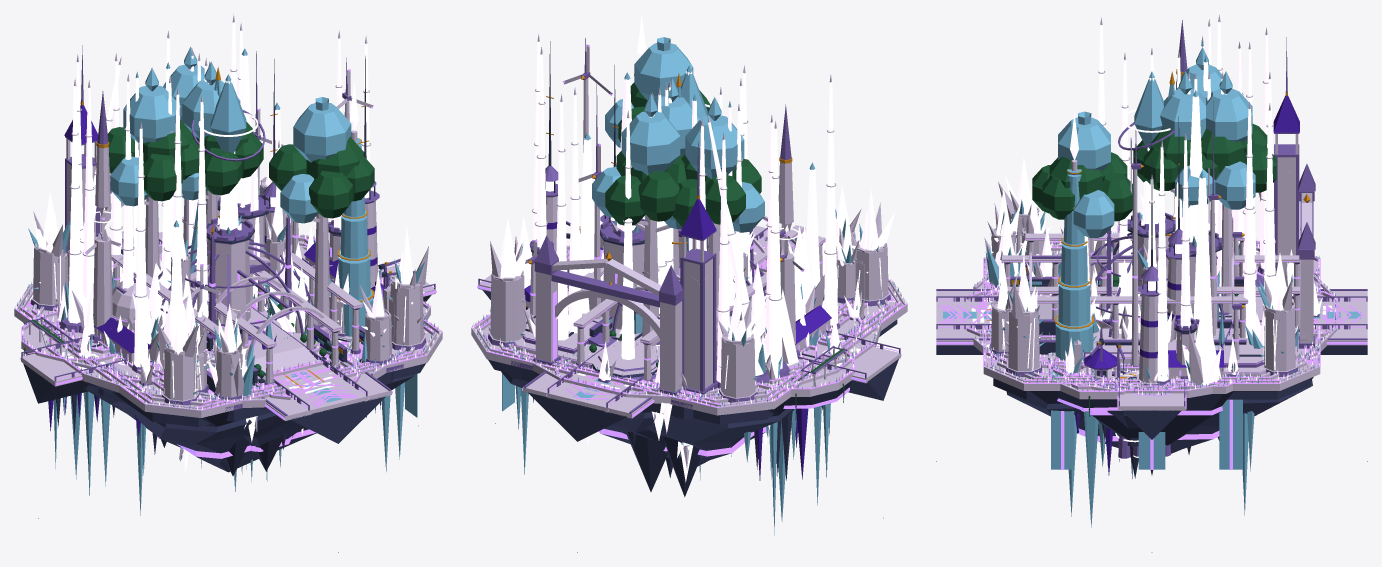
The model's file is sky_citadel_aether_surge_structure.fbx.
3 renders of one model, left to right at view 1: azimuth 30°, elevation 25°; view 2: azimuth 150°, elevation 25°; view 3: azimuth 270°, elevation 25°, orthographic. The views are drawn at different scales.
Parts seen in each view (by area): view 1: chunk_sky_tree_grove__aether_surge, chunk_spire_court__aether_surge, chunk_boss_clearing__aether_surge, chunk_aether_springs__aether_surge, chunk_path_colonnade__aether_surge, chunk_parade_ground__aether_surge, chunk_archive__aether_surge, chunk_spire_court_b__aether_surge, chunk_side_garden__aether_surge, chunk_garden_terrace__aether_surge, chunk_crossroads__aether_surge, chunk_path_shattered__aether_surge (+20 smaller); view 2: chunk_spire_court__aether_surge, chunk_garden_terrace__aether_surge, chunk_sky_tree_grove__aether_surge, chunk_archive__aether_surge, chunk_boss_clearing__aether_surge, chunk_path_colonnade__aether_surge, chunk_parade_ground__aether_surge, chunk_aether_springs__aether_surge, chunk_armory__aether_surge, chunk_spire_court_b__aether_surge, chunk_path_long_span__aether_surge, chunk_path_tower_bend__aether_surge (+15 smaller); view 3: chunk_spire_court__aether_surge, chunk_aether_springs__aether_surge, chunk_garden_terrace__aether_surge, chunk_boss_clearing__aether_surge, chunk_sky_tree_grove__aether_surge, chunk_archive__aether_surge, chunk_armory__aether_surge, chunk_spire_court_b__aether_surge, chunk_parade_ground__aether_surge, chunk_side_garden__aether_surge, chunk_path_colonnade__aether_surge, chunk_crossroads__aether_surge (+18 smaller).
Boxes of the visible parts, x1=… form: chunk_sky_tree_grove__aether_surge: x1=107, y1=67, x2=403, y2=473; chunk_spire_court__aether_surge: x1=14, y1=22, x2=442, y2=472; chunk_boss_clearing__aether_surge: x1=36, y1=31, x2=405, y2=443; chunk_aether_springs__aether_surge: x1=20, y1=83, x2=425, y2=552; chunk_path_colonnade__aether_surge: x1=38, y1=78, x2=360, y2=479; chunk_parade_ground__aether_surge: x1=20, y1=14, x2=436, y2=426; chunk_archive__aether_surge: x1=64, y1=45, x2=402, y2=442; chunk_spire_court_b__aether_surge: x1=52, y1=57, x2=403, y2=471; chunk_side_garden__aether_surge: x1=181, y1=61, x2=356, y2=403; chunk_garden_terrace__aether_surge: x1=21, y1=46, x2=430, y2=495; chunk_crossroads__aether_surge: x1=23, y1=81, x2=435, y2=404; chunk_path_shattered__aether_surge: x1=71, y1=91, x2=390, y2=486; chunk_spire_court__aether_surge: x1=471, y1=87, x2=907, y2=482; chunk_garden_terrace__aether_surge: x1=559, y1=93, x2=854, y2=505; chunk_sky_tree_grove__aether_surge: x1=511, y1=37, x2=854, y2=397; chunk_archive__aether_surge: x1=510, y1=142, x2=851, y2=435; chunk_boss_clearing__aether_surge: x1=508, y1=110, x2=885, y2=404; chunk_path_colonnade__aether_surge: x1=552, y1=121, x2=811, y2=521; chunk_parade_ground__aether_surge: x1=477, y1=94, x2=901, y2=424; chunk_aether_springs__aether_surge: x1=488, y1=14, x2=901, y2=552; chunk_armory__aether_surge: x1=524, y1=132, x2=868, y2=497; chunk_spire_court_b__aether_surge: x1=511, y1=38, x2=868, y2=491; chunk_path_long_span__aether_surge: x1=515, y1=74, x2=864, y2=477; chunk_path_tower_bend__aether_surge: x1=600, y1=72, x2=898, y2=399; chunk_spire_court__aether_surge: x1=983, y1=42, x2=1367, y2=453; chunk_aether_springs__aether_surge: x1=936, y1=112, x2=1367, y2=552; chunk_garden_terrace__aether_surge: x1=984, y1=71, x2=1321, y2=527; chunk_boss_clearing__aether_surge: x1=936, y1=72, x2=1336, y2=398; chunk_sky_tree_grove__aether_surge: x1=991, y1=47, x2=1312, y2=367; chunk_archive__aether_surge: x1=936, y1=37, x2=1367, y2=363; chunk_armory__aether_surge: x1=936, y1=27, x2=1367, y2=445; chunk_spire_court_b__aether_surge: x1=984, y1=130, x2=1319, y2=439; chunk_parade_ground__aether_surge: x1=942, y1=103, x2=1365, y2=399; chunk_side_garden__aether_surge: x1=947, y1=71, x2=1228, y2=319; chunk_path_colonnade__aether_surge: x1=942, y1=15, x2=1367, y2=401; chunk_crossroads__aether_surge: x1=937, y1=78, x2=1367, y2=439.
Bounding box in the file's own units: 256 × 256 × 256.
